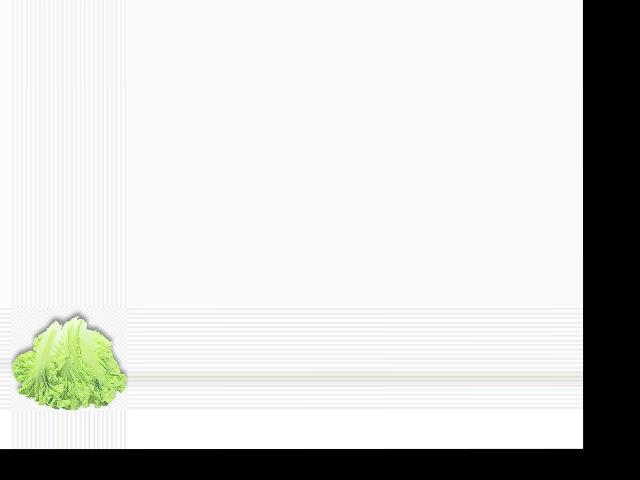lettuce: (9, 313, 124, 409)
